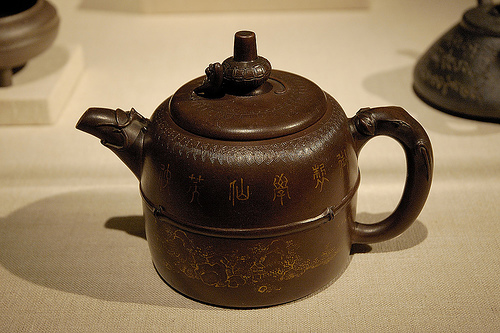teapot: (60, 12, 448, 328)
